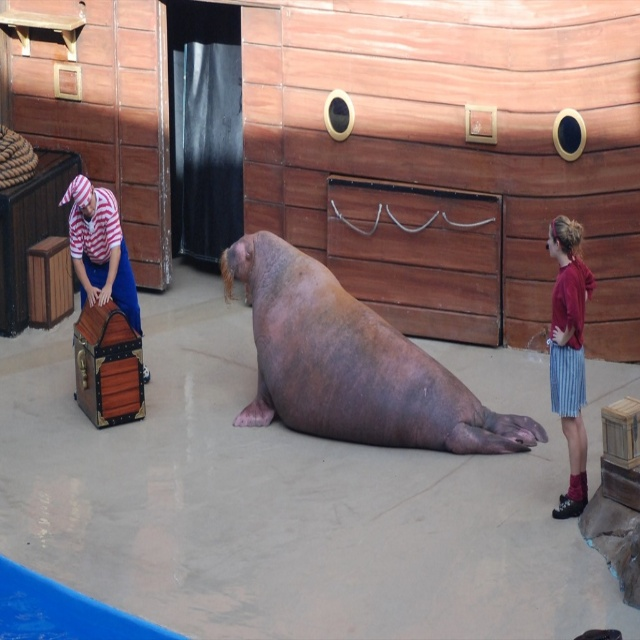Harbor seal: (217, 229, 552, 457)
